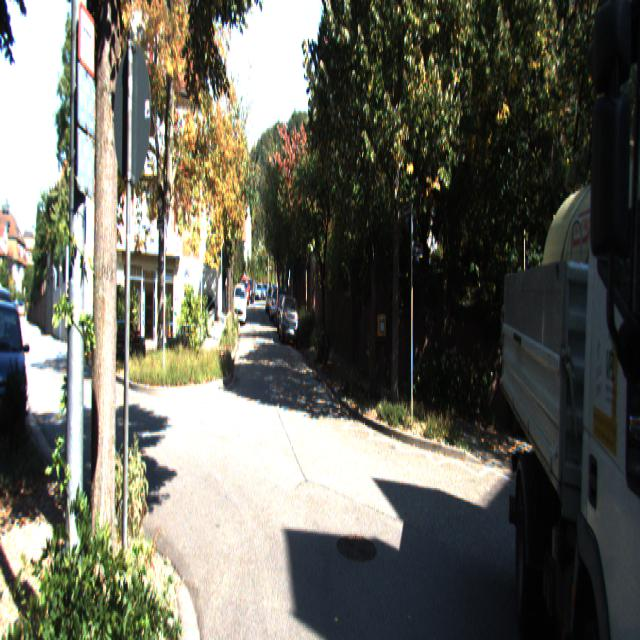Car: (500, 0, 639, 639), (0, 287, 32, 435), (278, 294, 298, 351), (233, 283, 247, 326)
